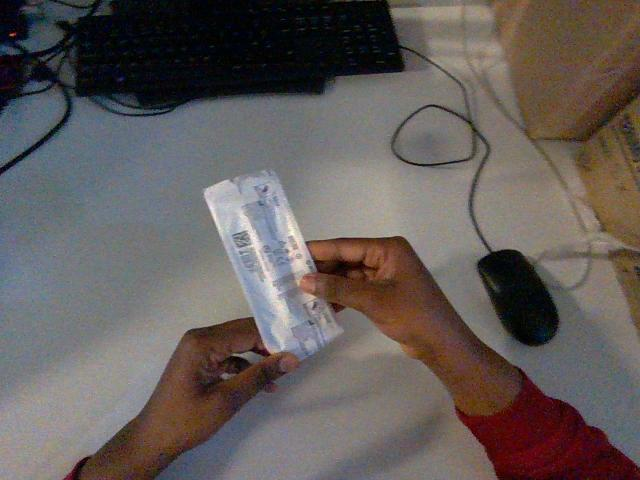syringe: (204, 170, 342, 358)
